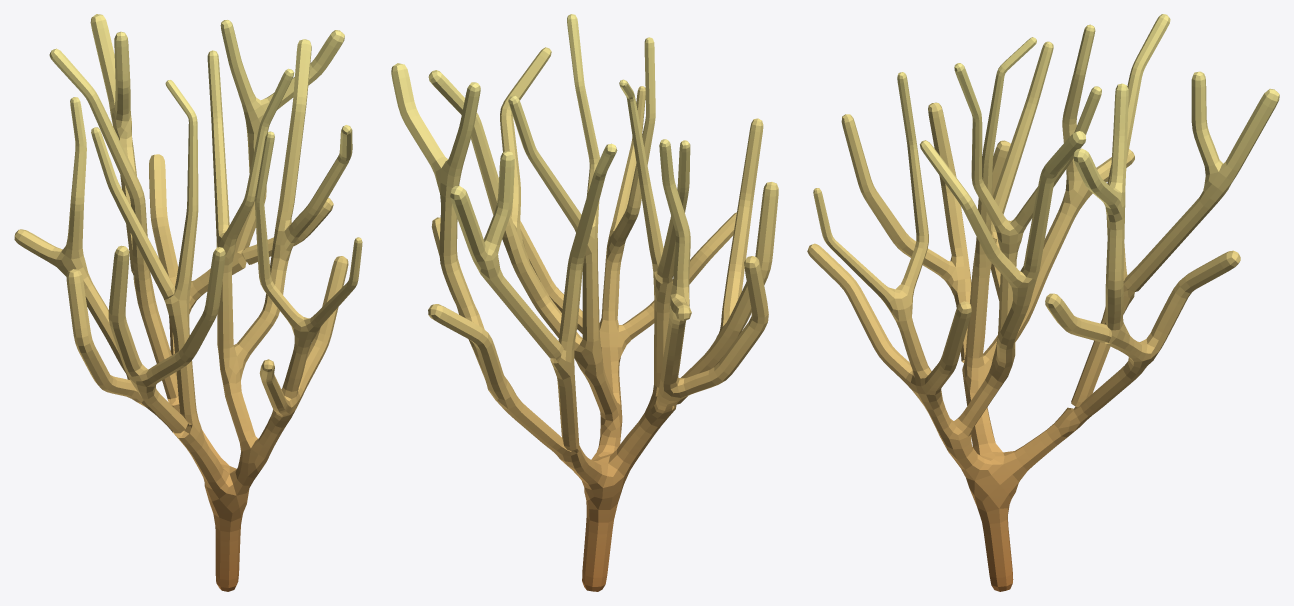
File: Object_Coral_03.fbx
3 views of the same model, side by side, from view 1: azimuth 30°, elevation 25°; view 2: azimuth 150°, elevation 25°; view 3: azimuth 270°, elevation 25° (orthographic). The views are drawn at different scales.
Visible parts, largest first — view 1: CoralTubes; view 2: CoralTubes; view 3: CoralTubes.
Boxes of the visible parts, x1,y1,x2,y2 form: CoralTubes: [14, 14, 362, 591]; CoralTubes: [391, 14, 778, 591]; CoralTubes: [807, 14, 1279, 591].
Size of the model in its own units: 457 by 732 by 572.
